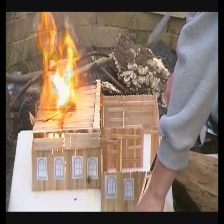fire: (33, 13, 90, 114)
